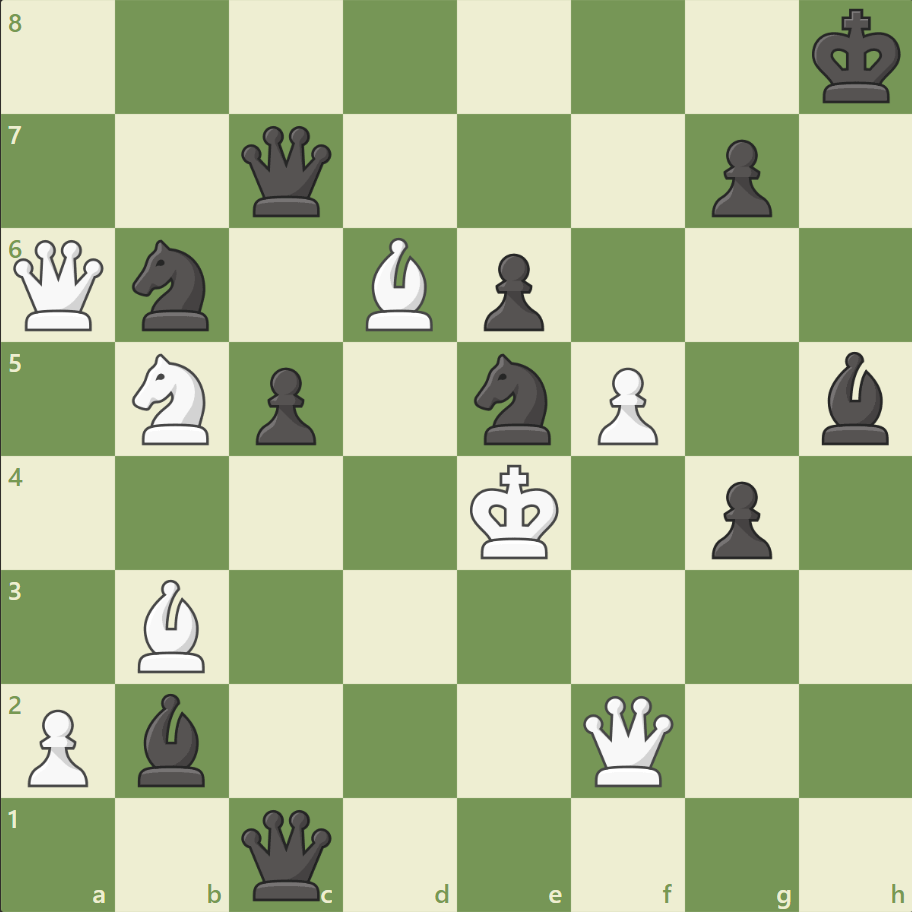B: (358, 233, 442, 336), (131, 574, 215, 676)
K: (465, 458, 565, 566)
N: (124, 348, 222, 450)
P: (20, 700, 95, 791), (588, 359, 662, 450)
Q: (10, 236, 109, 335), (578, 690, 677, 789)
b: (131, 687, 215, 790), (812, 347, 896, 449)
k: (806, 4, 906, 112)
n: (124, 234, 222, 337), (465, 348, 562, 450)
p: (701, 132, 776, 223), (474, 246, 549, 337), (247, 359, 322, 450), (701, 473, 776, 564)
q: (237, 122, 336, 222), (237, 804, 336, 903)
